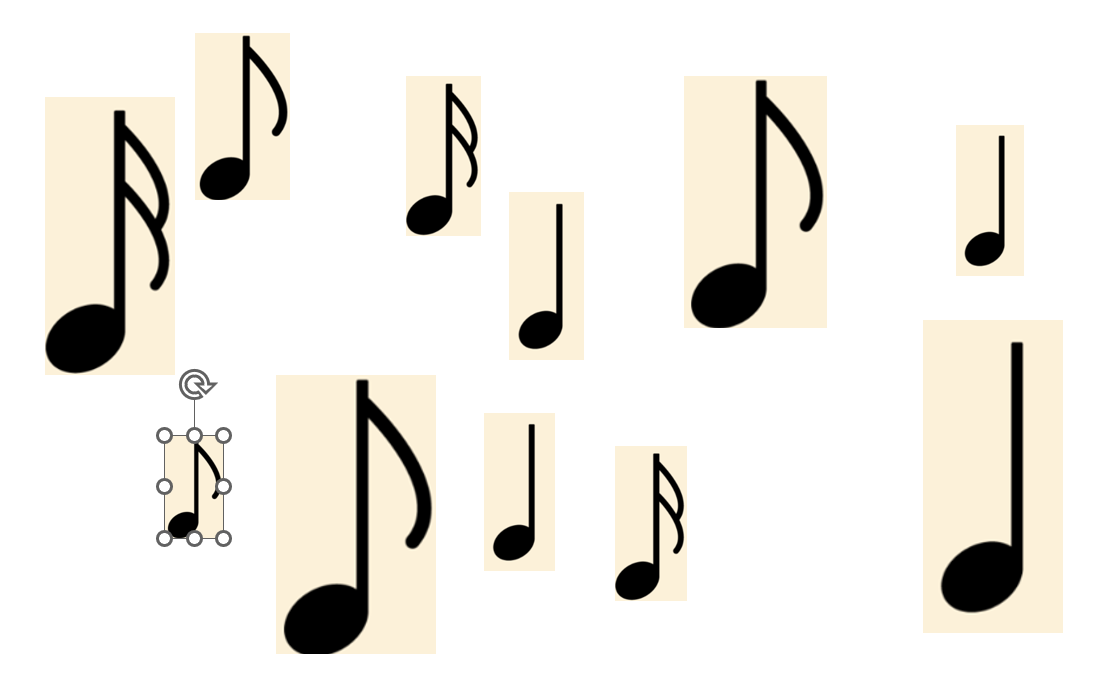pal: (284, 380, 431, 655), (691, 80, 824, 328), (199, 36, 289, 200), (167, 441, 221, 540)
sa: (941, 343, 1023, 613), (519, 204, 563, 349), (493, 425, 536, 562), (965, 136, 1005, 266)
sipyuck: (46, 111, 169, 374), (406, 83, 478, 235), (616, 454, 684, 601)
